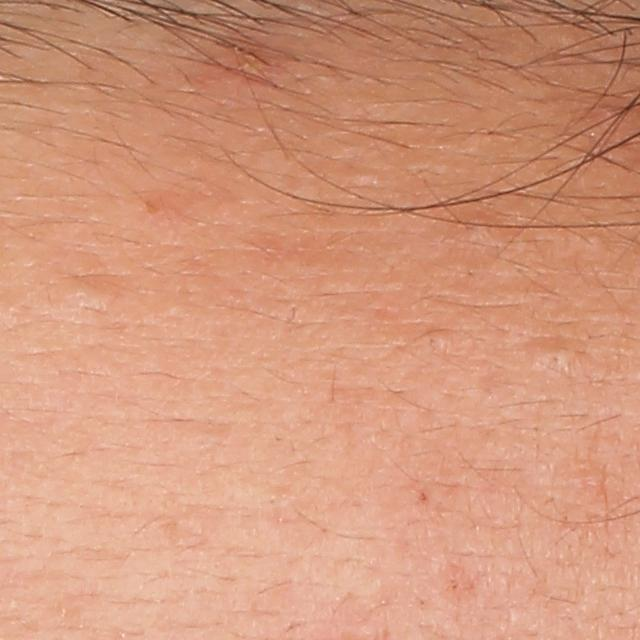comedo: (521, 341, 587, 380), (54, 281, 111, 314), (431, 330, 456, 354)
